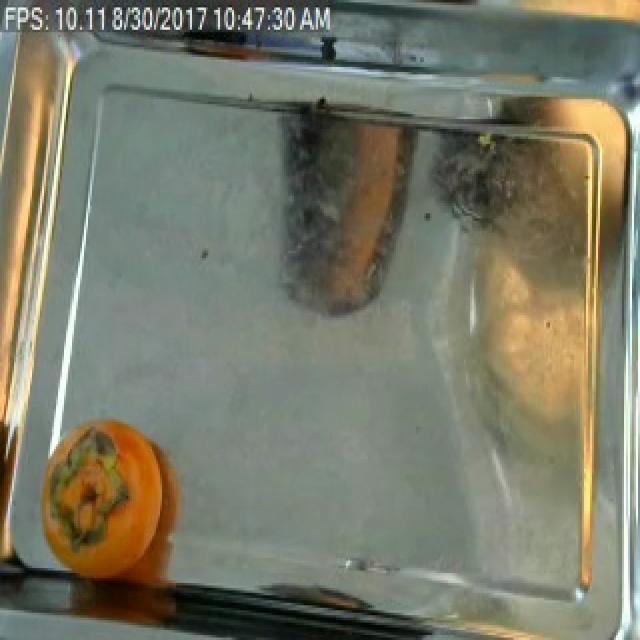Fruit: (36, 409, 172, 546), (480, 0, 640, 35)
